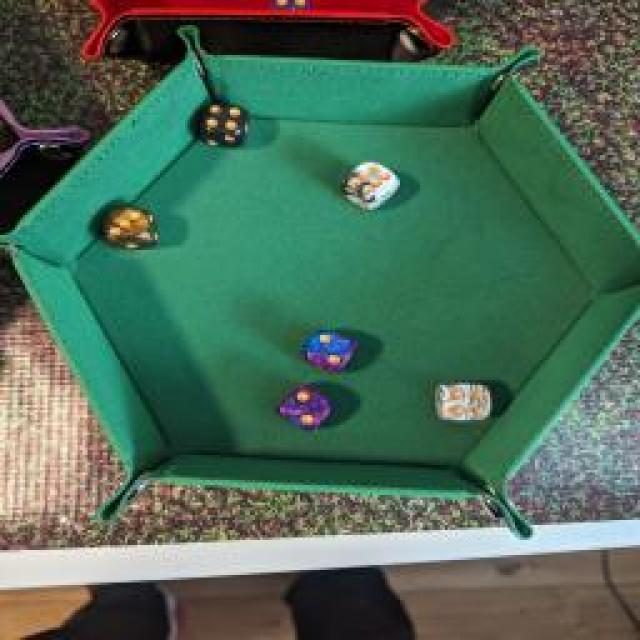dice_2: (271, 378, 339, 434), (297, 324, 355, 371)
dice_3: (94, 204, 168, 251)
dice_4: (196, 99, 254, 151), (432, 379, 496, 426)
dice_6: (330, 158, 408, 210)
